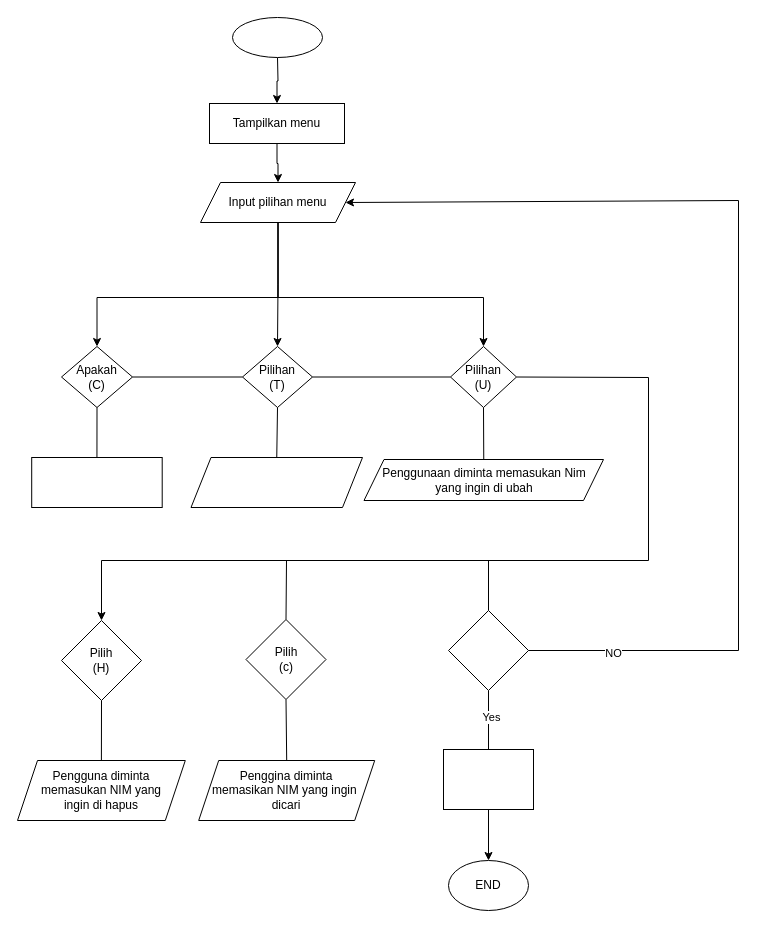
Some shapes in this 764 by 928 pixel diagram are drawn without their labels. The box of each missing label's shape, as (x1, y1, x2, y2) in pixels:
Input NIM, nama, Tugas, UTS, UAS, Akhir: (190, 456, 362, 508)
Menampilkan data yang ada: (31, 456, 162, 508)
Pilih (K): (448, 610, 528, 690)
Program Keluar: (442, 748, 534, 810)
Start: (232, 16, 322, 58)
